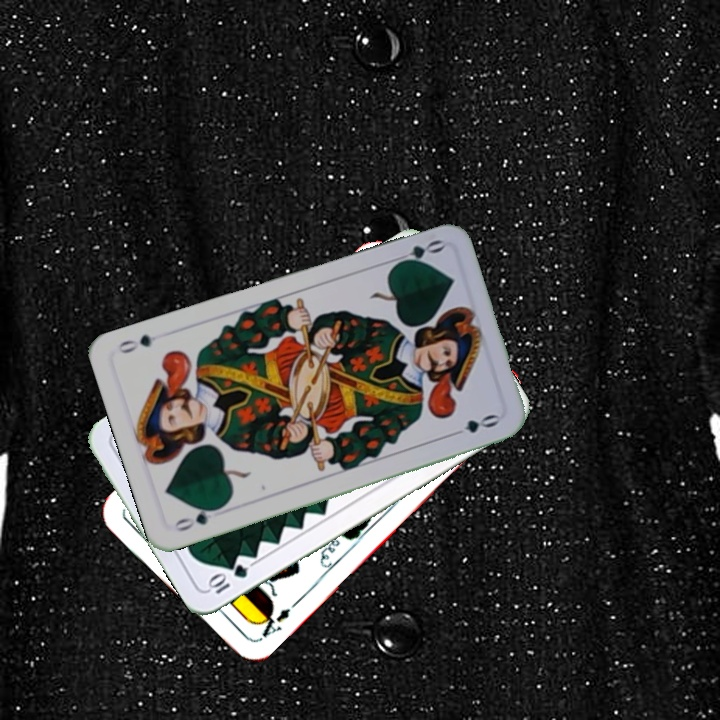EA: (251, 603, 294, 644)
G10: (204, 560, 251, 597)
GO: (388, 235, 446, 269), (169, 502, 225, 534)
